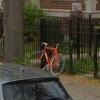Bicycle: (27, 39, 66, 75)
